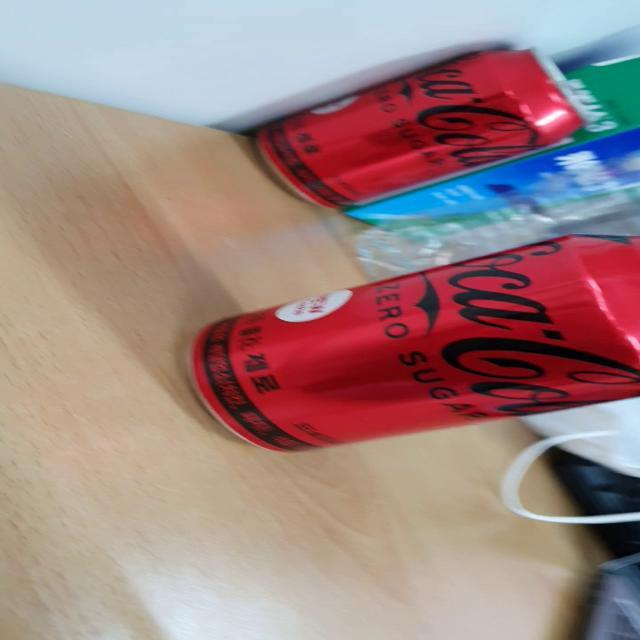coca-cola: (192, 230, 640, 460), (230, 38, 602, 218)
